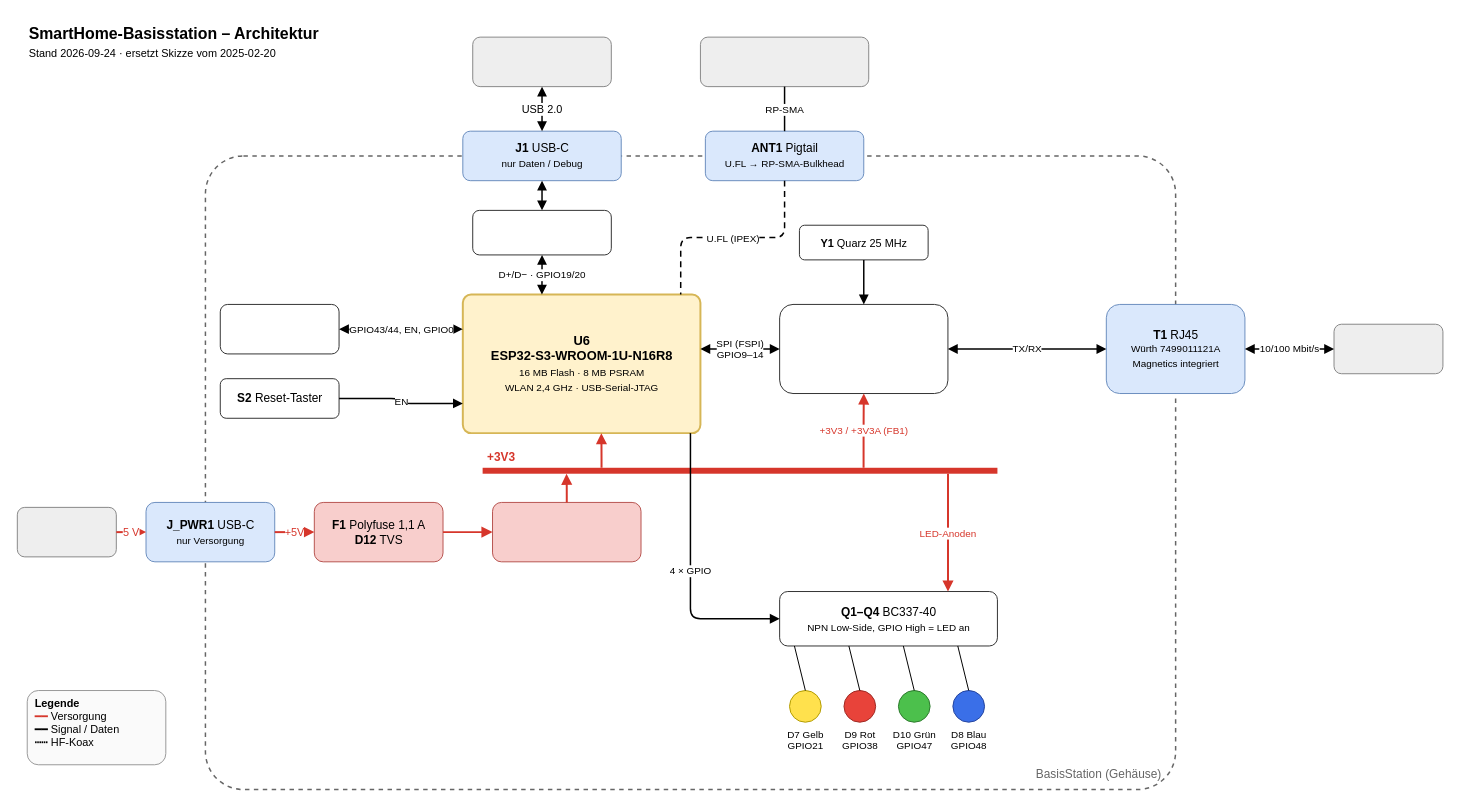
Some shapes in this 1460 by 807 pixel diagram are drawn without their labels. Here are the shapes that lost their labels. From the top down, the centre of each, then its label:
At point 541,61: "PC Flashen · Debug · Log".
At point 784,61: "ANT2 WLAN-Antenne GW.20.A151 · 2,4 GHz · 2 dBi".
At point 541,232: "U1 ESD-Schutz D3V3XA4B10LP".
At point 279,328: "J6 PROG-Header 6-polig, UART0".
At point 863,348: "U7 W5500 Ethernet-Controller MAC + PHY, 10/100".
At point 1388,348: "Netzwerk Switch / Router".
At point 66,531: "USB-Netzteil 5 V, ohne PD".
At point 566,531: "PS1 AP3211 Buck 5 V → 3,3 V, 1,5 A".
